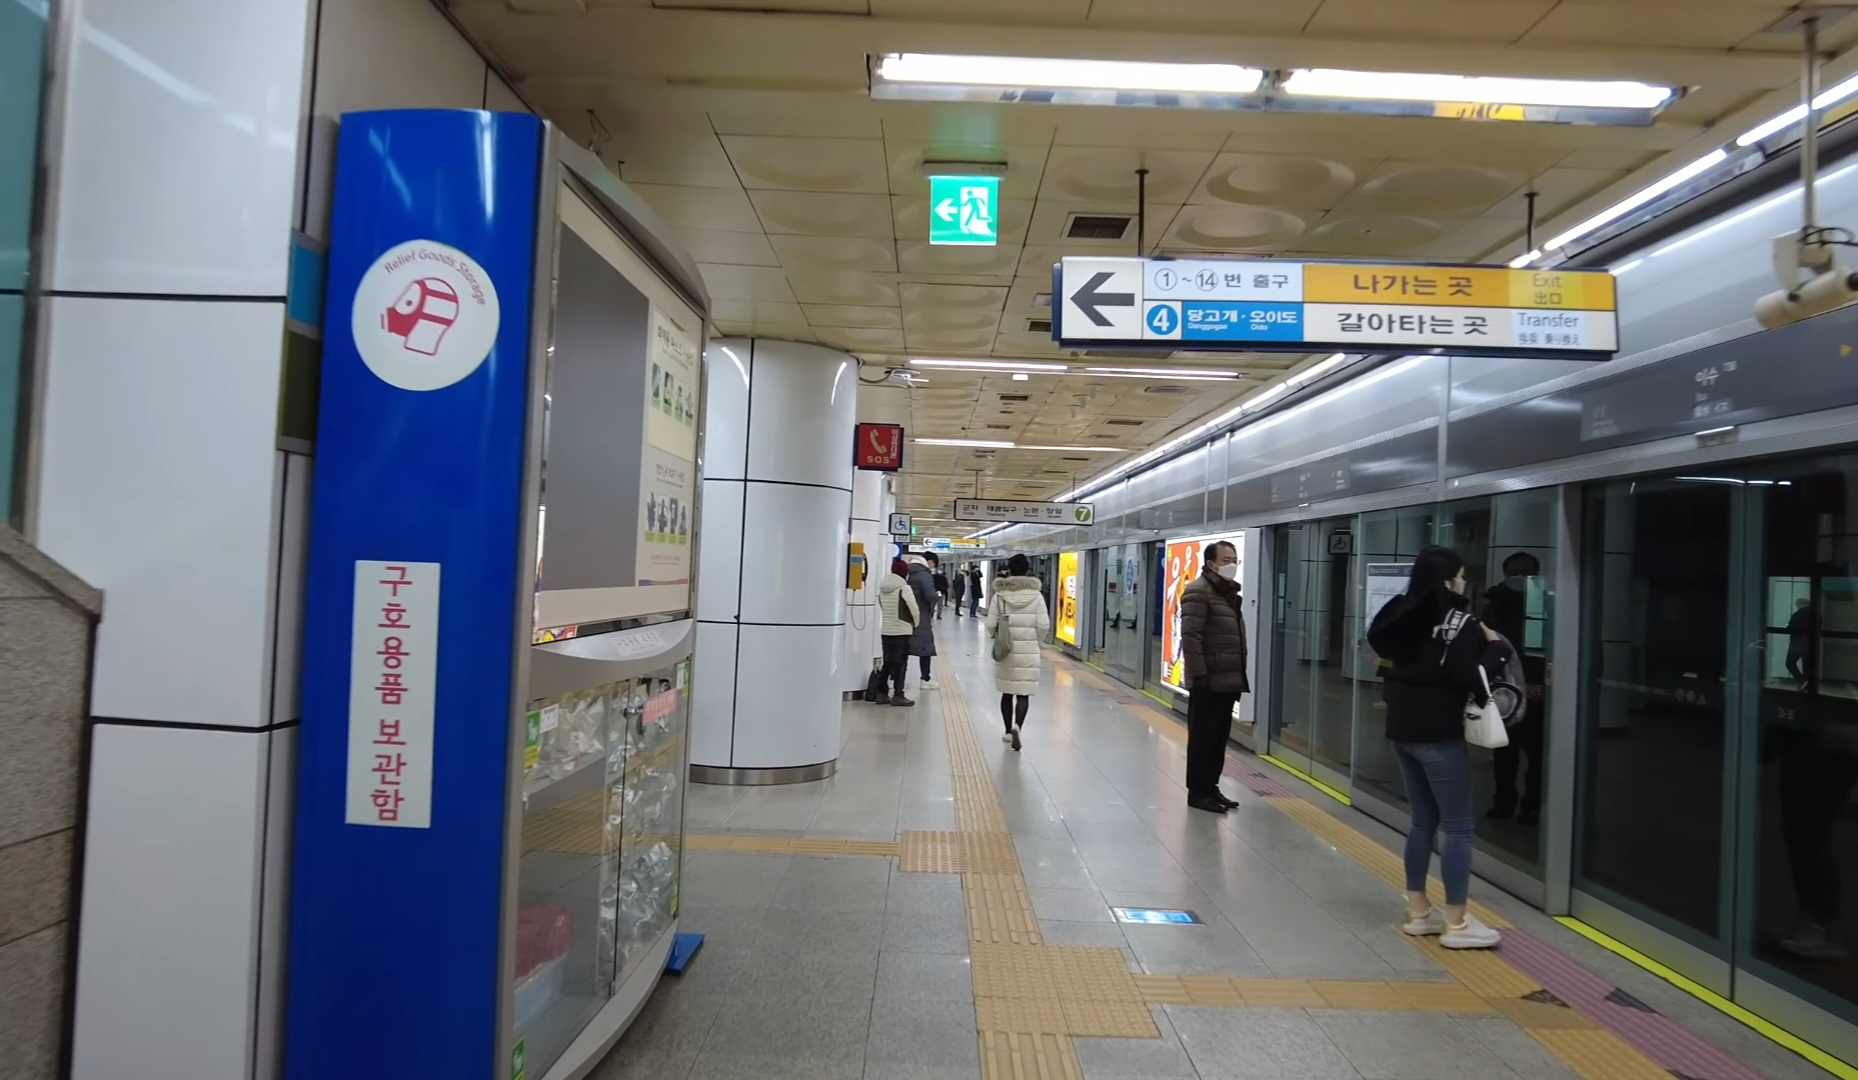signBoard: (1045, 240, 1629, 372)
